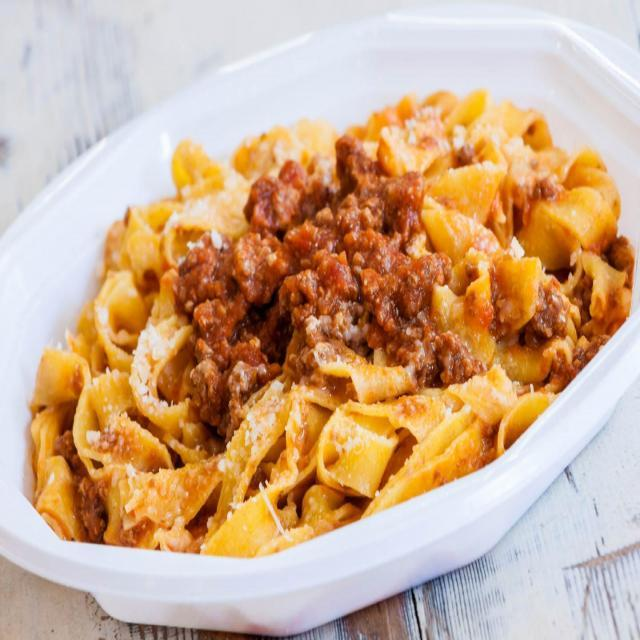Pasta al ragu: (53, 107, 624, 542)
